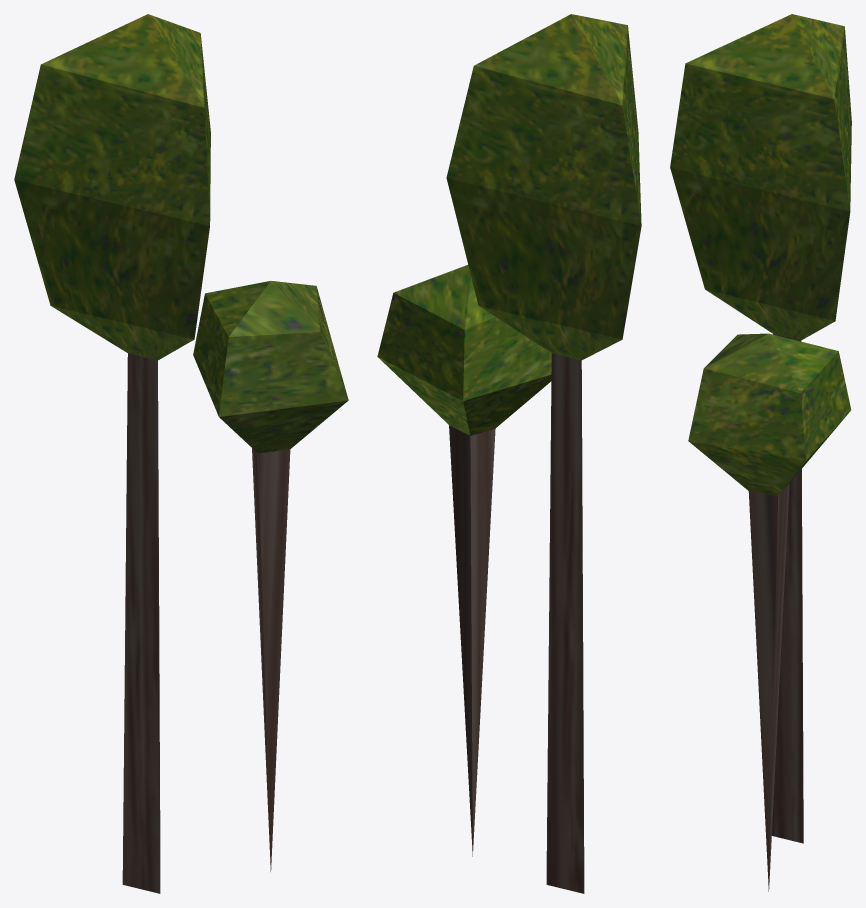
Rendered from tree2b.obj.
3 views of the same model, side by side, from view 1: azimuth 30°, elevation 25°; view 2: azimuth 150°, elevation 25°; view 3: azimuth 270°, elevation 25° (orthographic). The views are drawn at different scales.
Visible parts, largest first — view 1: tree2; view 2: tree2; view 3: tree2.
Boxes of the visible parts, x1=… form: tree2: x1=14, y1=14, x2=348, y2=893; tree2: x1=377, y1=14, x2=641, y2=893; tree2: x1=670, y1=14, x2=851, y2=891.
Bounding box in the file's own units: 7.21 × 20.99 × 4.17.
